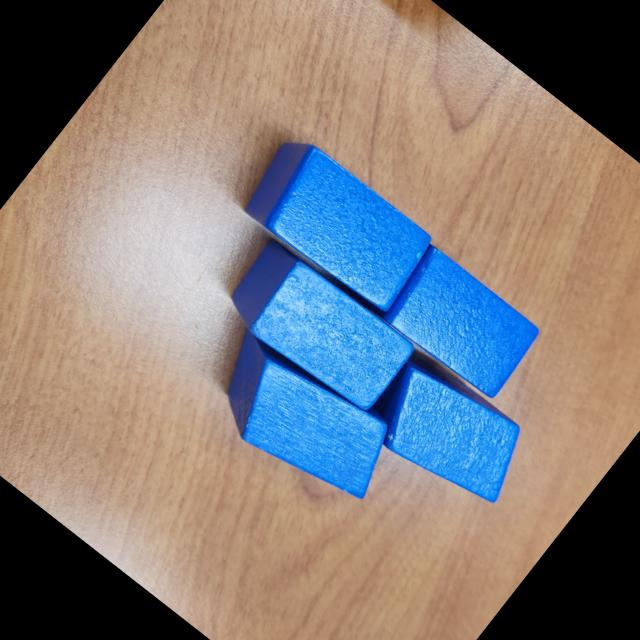blue: (190, 320, 413, 526), (230, 126, 444, 322), (215, 232, 422, 422), (357, 348, 544, 524), (375, 244, 547, 407)
